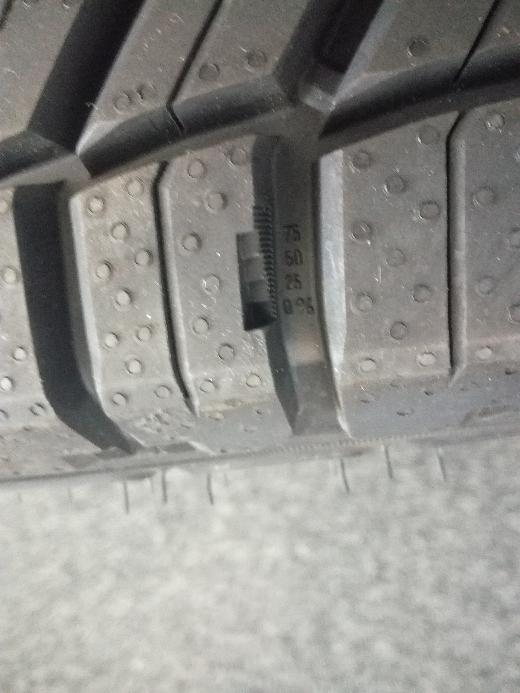temoin:100: (234, 202, 282, 334)
